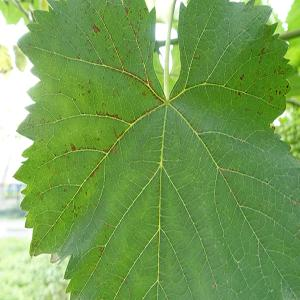Folha: (13, 0, 299, 299)
Fungo: (75, 77, 96, 102), (158, 44, 173, 73), (96, 109, 123, 122), (233, 73, 245, 100), (88, 161, 102, 180), (100, 219, 112, 241), (229, 184, 242, 204), (150, 90, 164, 108), (130, 20, 139, 43), (116, 59, 128, 76), (72, 203, 82, 223), (259, 42, 267, 64), (220, 166, 229, 184), (256, 193, 265, 210), (109, 142, 119, 157), (273, 85, 283, 98), (146, 42, 152, 62), (50, 252, 60, 262), (92, 23, 100, 35), (112, 127, 120, 139), (268, 93, 275, 105), (98, 246, 104, 258), (125, 6, 131, 16), (269, 121, 275, 130), (285, 81, 291, 90), (70, 142, 76, 150), (193, 54, 201, 60), (239, 74, 245, 80), (256, 110, 262, 116), (149, 79, 153, 87), (142, 91, 146, 97)
